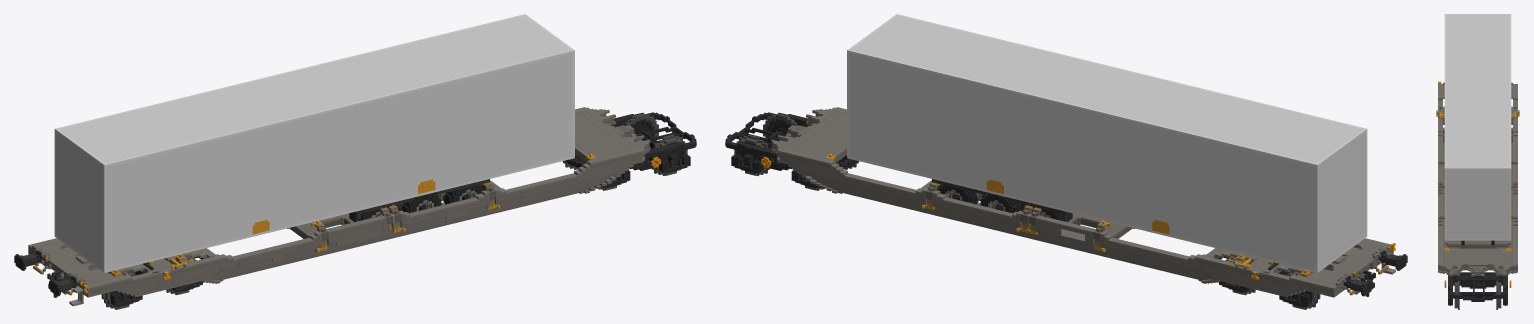
The model's file is hupac_t3000e_a.obj.
3 renders of one model, left to right at view 1: azimuth 30°, elevation 25°; view 2: azimuth 150°, elevation 25°; view 3: azimuth 270°, elevation 25°, orthographic. The views are drawn at different scales.
Visible parts, largest first — view 1: CARGO_FILL_01, FRAME_1, FRAME_2, BOGEY_REAR, BOGEY_REAR_WHEEL_2, FRAME_3, BOGEY_FRONT; view 2: CARGO_FILL_01, FRAME_1, FRAME_2, BOGEY_REAR, BOGEY_REAR_WHEEL_2, FRAME_3, BOGEY_FRONT; view 3: CARGO_FILL_01, FRAME_2, FRAME_1, BOGEY_REAR, FRAME_3, BOGEY_REAR_WHEEL_2.
Boxes of the visible parts, left/top/right/bottom form: CARGO_FILL_01: left=54, top=14, right=574, bottom=272; FRAME_1: left=14, top=209, right=429, bottom=306; FRAME_2: left=401, top=107, right=645, bottom=231; BOGEY_REAR: left=565, top=112, right=696, bottom=187; BOGEY_REAR_WHEEL_2: left=624, top=113, right=687, bottom=175; FRAME_3: left=587, top=108, right=650, bottom=157; BOGEY_FRONT: left=111, top=256, right=207, bottom=306; CARGO_FILL_01: left=847, top=14, right=1367, bottom=272; FRAME_1: left=992, top=209, right=1407, bottom=297; FRAME_2: left=776, top=107, right=1020, bottom=231; BOGEY_REAR: left=725, top=112, right=856, bottom=187; BOGEY_REAR_WHEEL_2: left=734, top=113, right=797, bottom=175; FRAME_3: left=771, top=108, right=834, bottom=157; BOGEY_FRONT: left=1214, top=256, right=1310, bottom=306; CARGO_FILL_01: left=1444, top=14, right=1511, bottom=245; FRAME_2: left=1438, top=200, right=1517, bottom=273; FRAME_1: left=1436, top=81, right=1519, bottom=210; BOGEY_REAR: left=1444, top=274, right=1511, bottom=305; FRAME_3: left=1443, top=264, right=1512, bottom=278; BOGEY_REAR_WHEEL_2: left=1453, top=280, right=1502, bottom=309.
Size of the model in its own units: 18.75 by 4.38 by 3.12.
Materials: 1 (1 with a texture image).
